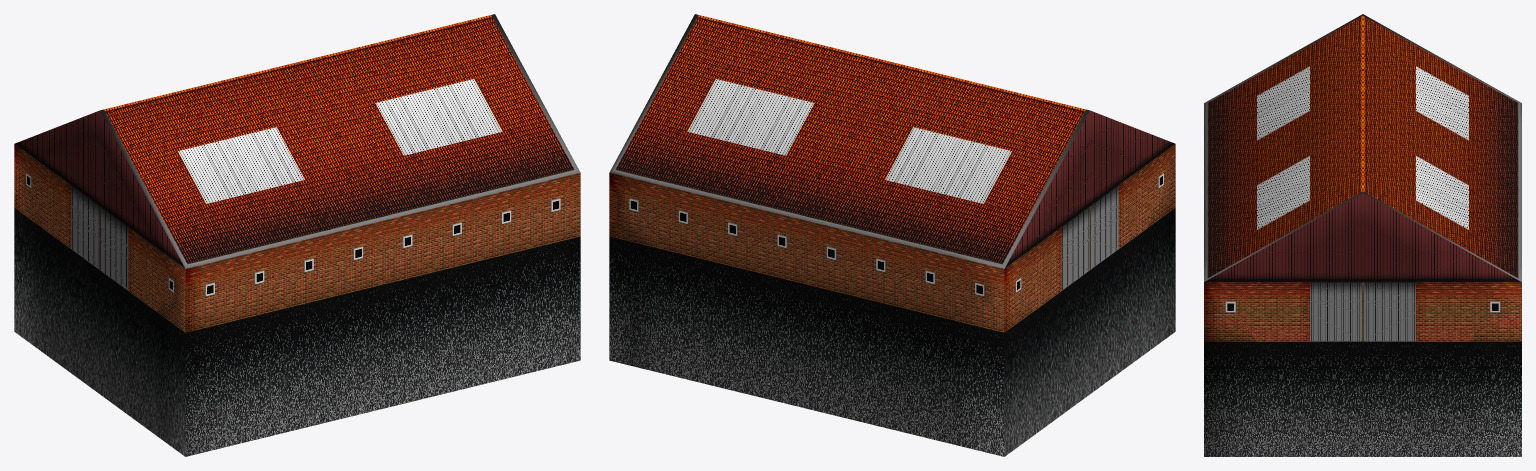
The model's file is schuur_mod1_1b.fbx.
3 renders of one model, left to right at view 1: azimuth 30°, elevation 25°; view 2: azimuth 150°, elevation 25°; view 3: azimuth 270°, elevation 25°, orthographic. The views are drawn at different scales.
Visible parts, largest first — view 1: schuur_mod1_1b; view 2: schuur_mod1_1b; view 3: schuur_mod1_1b.
Part boxes in pixels (left/top/right/bottom): schuur_mod1_1b: left=14, top=14, right=580, bottom=456; schuur_mod1_1b: left=609, top=14, right=1175, bottom=456; schuur_mod1_1b: left=1204, top=14, right=1521, bottom=456.
Bounding box in the file's own units: 3000 × 2061 × 2250.
